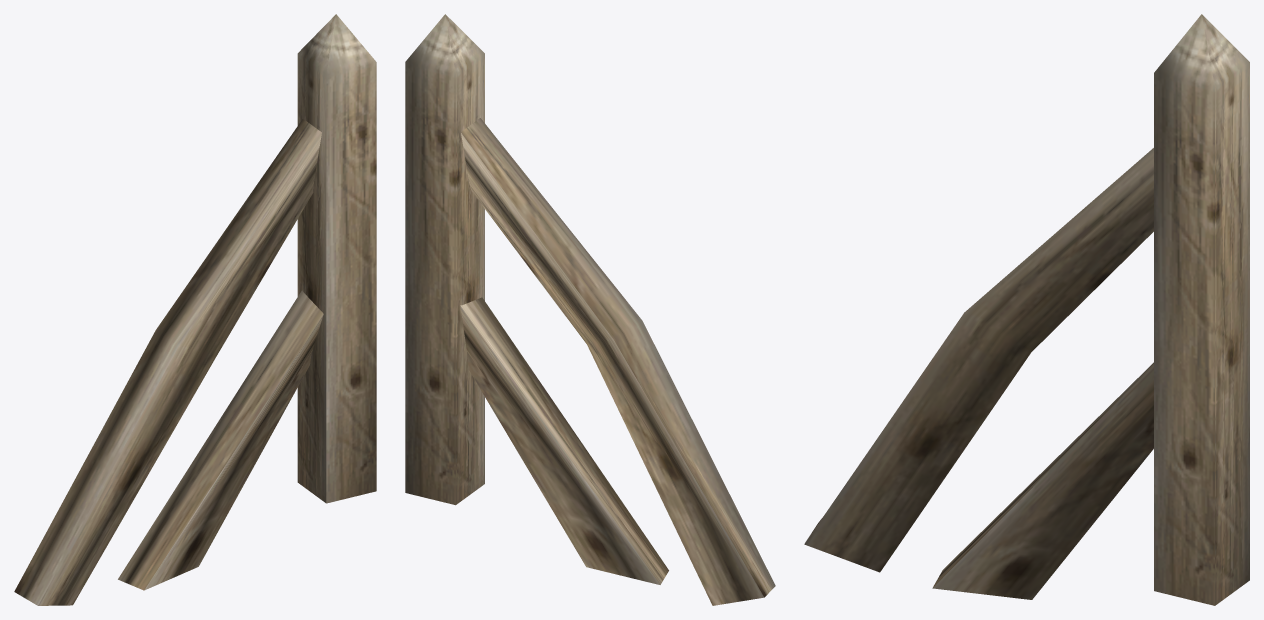
File: westfallfenceend.obj
The picture shows the model from 3 angles, left to right: view 1: azimuth 30°, elevation 25°; view 2: azimuth 150°, elevation 25°; view 3: azimuth 330°, elevation 25°; orthographic projection. The views are drawn at different scales.
Bounding box in the file's own units: 1.88 × 2.74 × 0.3142.
